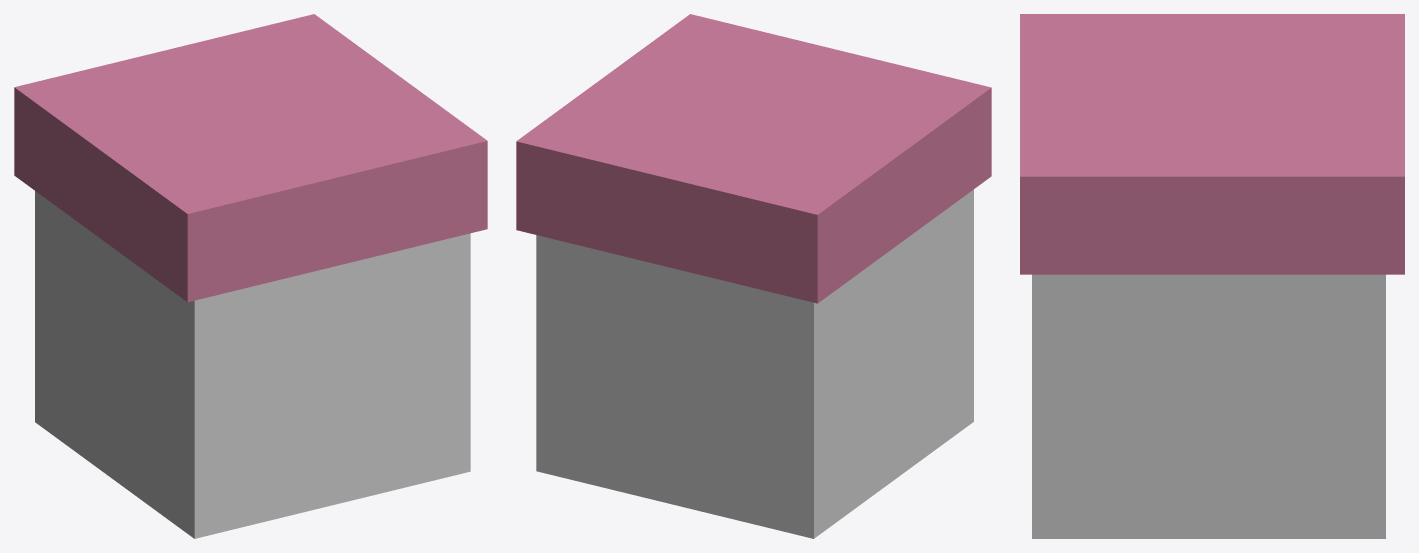
The picture shows the model from 3 angles, left to right: view 1: azimuth 30°, elevation 25°; view 2: azimuth 150°, elevation 25°; view 3: azimuth 270°, elevation 25°; orthographic projection. The views are drawn at different scales.
Visible parts, largest first — view 1: Cube; view 2: Cube; view 3: Cube.
Part boxes in pixels (x1,y1,x2,y2): Cube: (14, 14, 487, 538); Cube: (516, 14, 991, 538); Cube: (1020, 14, 1404, 538).
Bounding box in the file's own units: 217 × 230 × 217.
